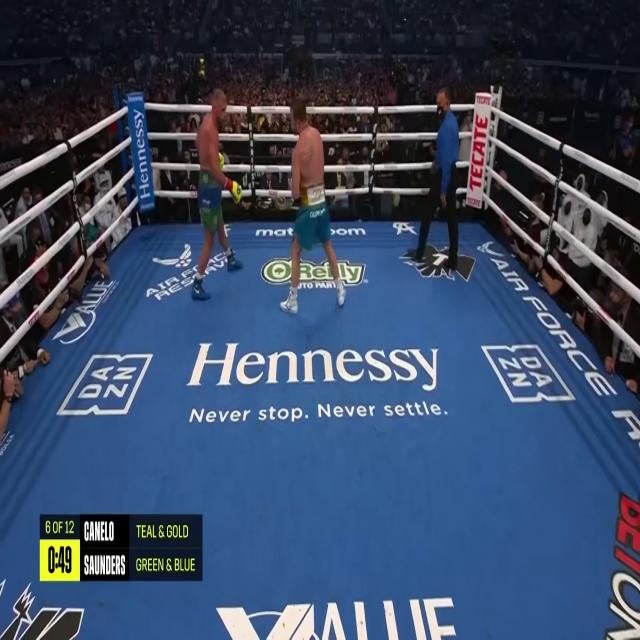boxer_1: (198, 89, 228, 169)
boxer_2: (291, 98, 325, 189)
gloves_1: (223, 176, 241, 204), (218, 152, 224, 169)
